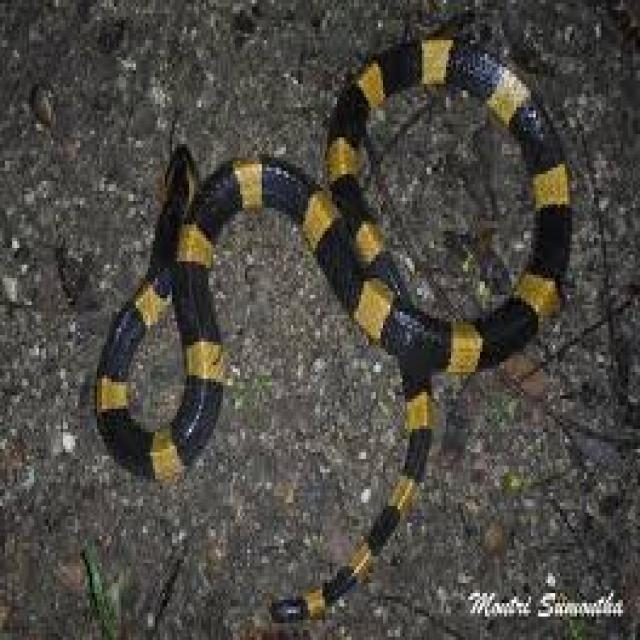Venomous: (148, 150, 228, 463)
